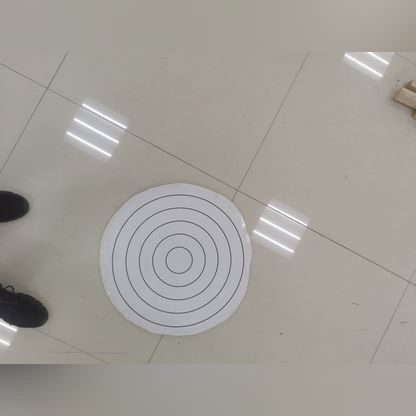circle: (101, 187, 251, 331)
